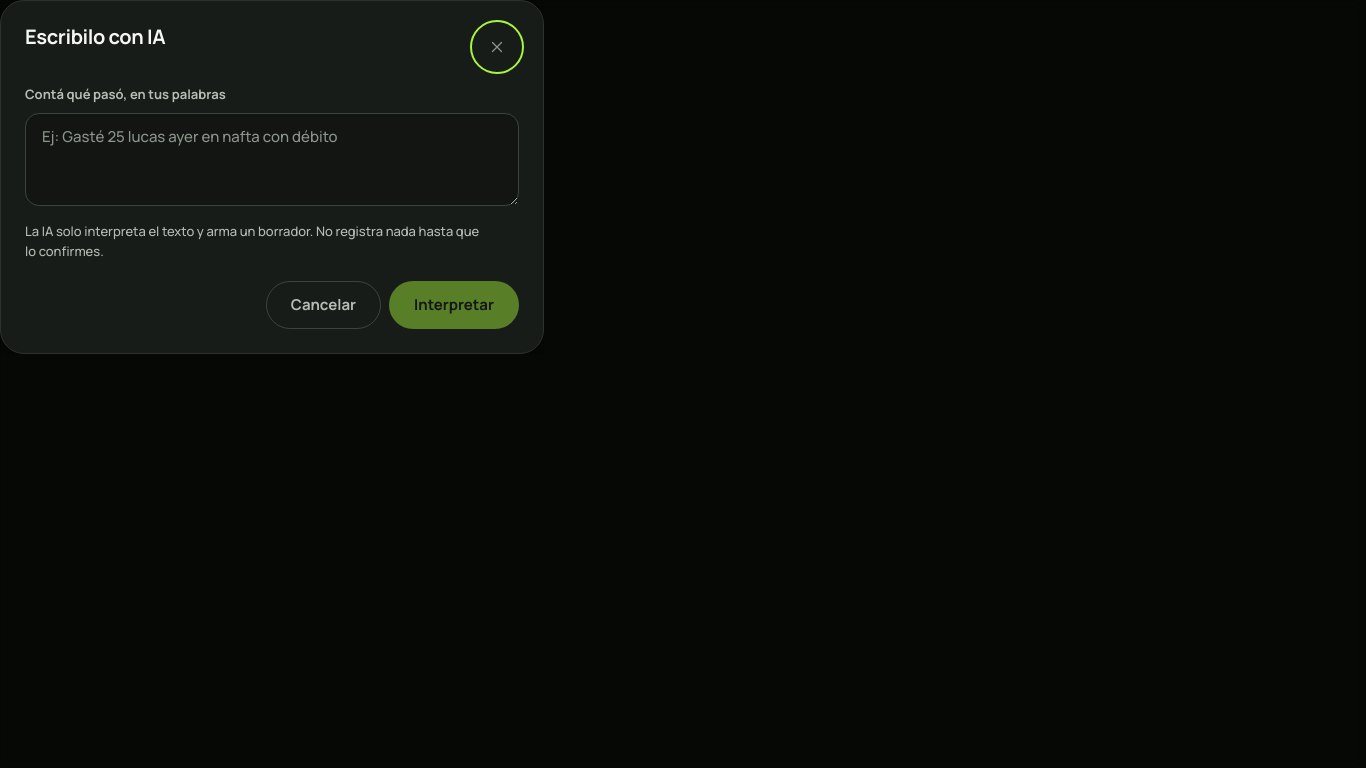
Test: escribilo con IA: 429 › conserva el texto escrito
Step 1. Type "Gasté 25 mil en combustible" into the text box → (272, 159), box [25,112,519,206]
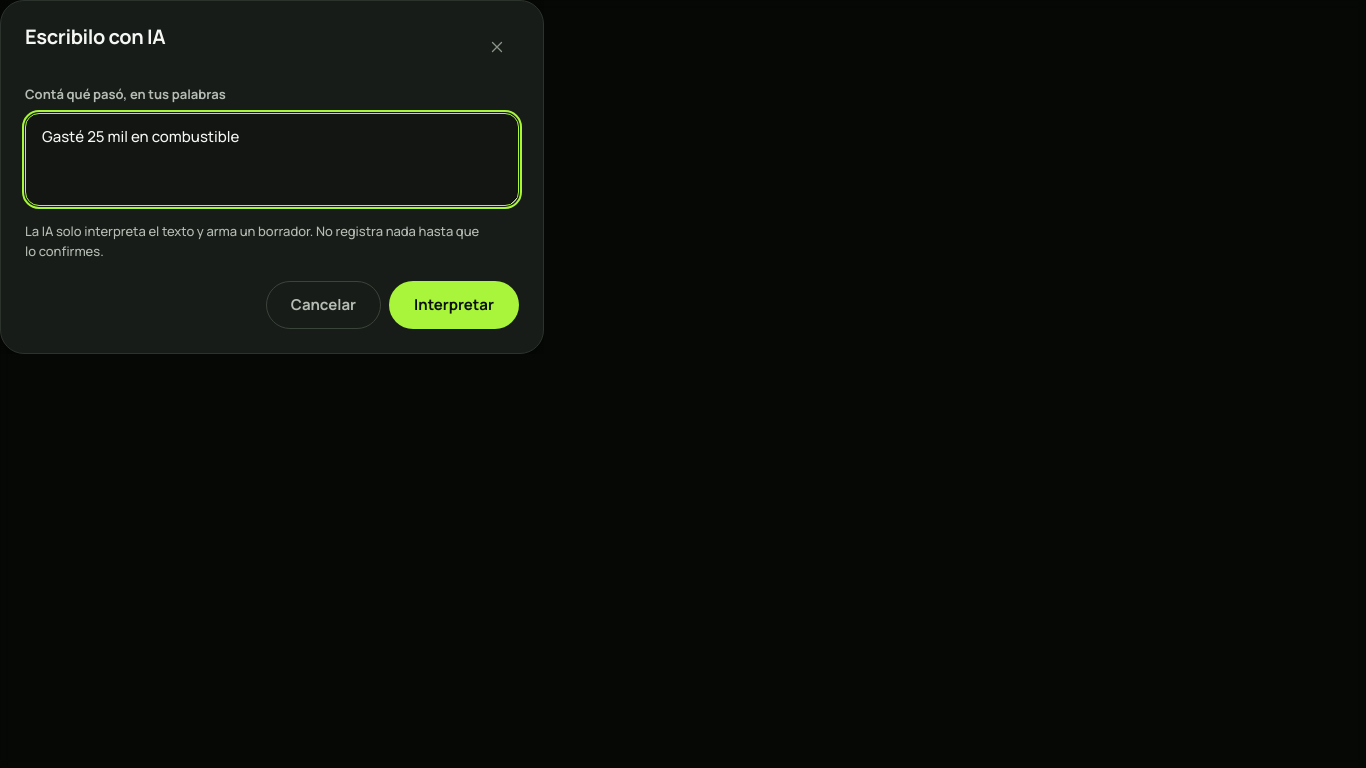
Step 2. Click the button "Interpretar" → (454, 305), box [389,281,519,329]
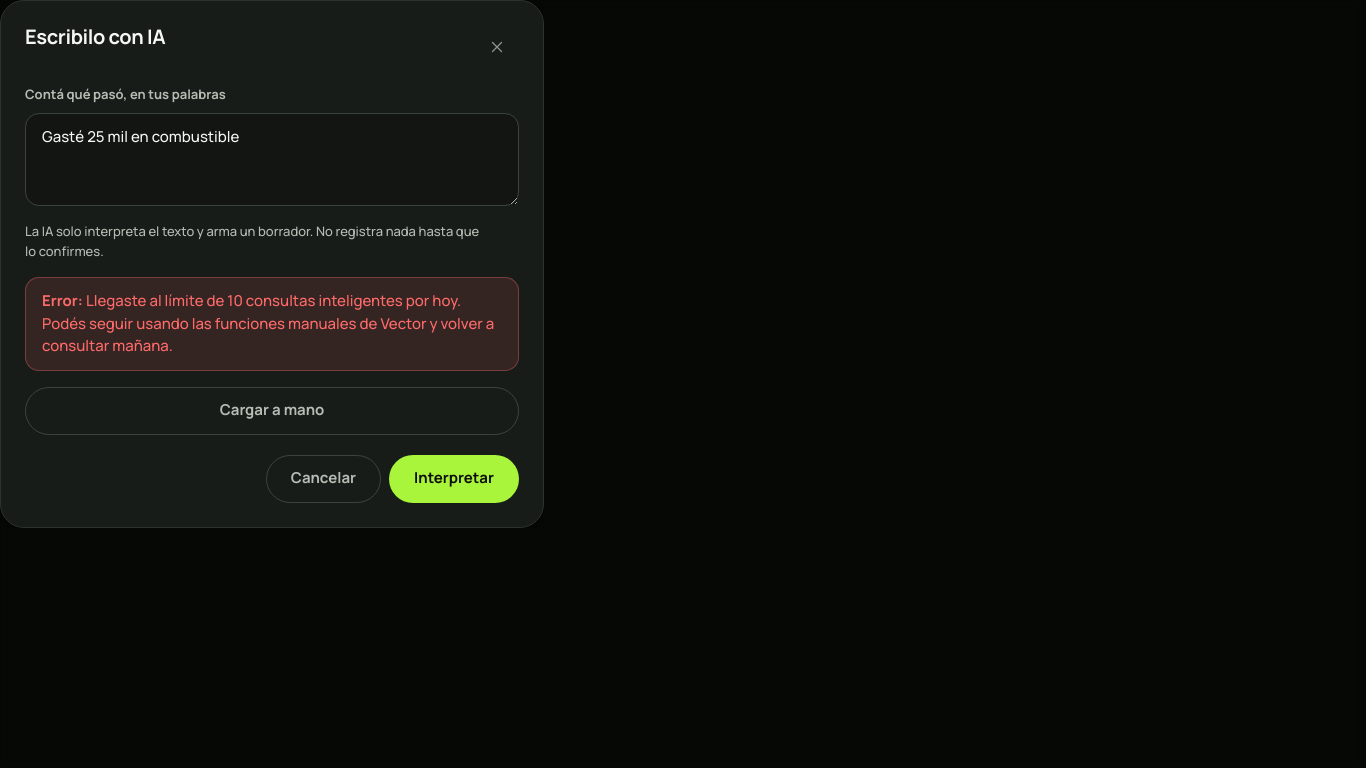
Now the message is shown, box [25,277,519,370]
